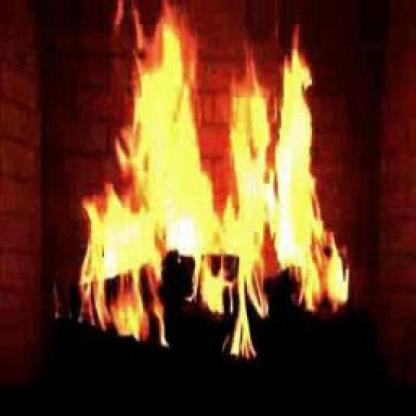fire: (56, 0, 360, 361)
